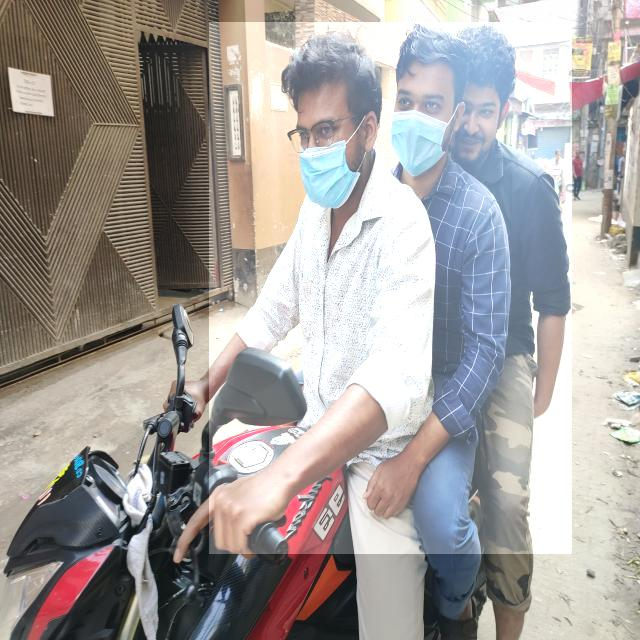Overloading: (209, 22, 572, 554)
